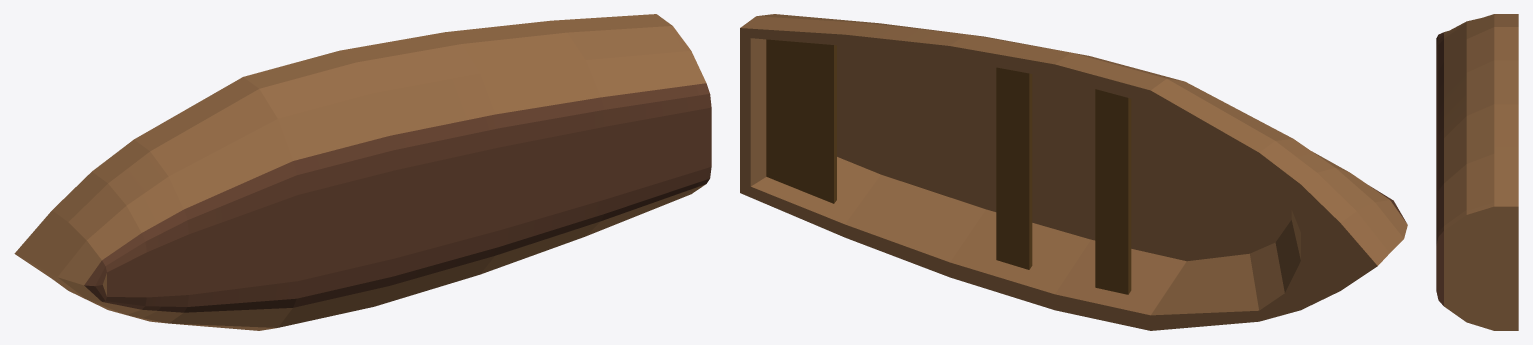
File: BoatUpDownAnime.fbx
3 renders of one model, left to right at view 1: azimuth 30°, elevation 25°; view 2: azimuth 150°, elevation 25°; view 3: azimuth 270°, elevation 25°, orthographic. The views are drawn at different scales.
Parts seen in each view (by area): view 1: Wood_BoatV1.008; view 2: Wood_BoatV1.008; view 3: Wood_BoatV1.008.
Boxes of the visible parts, <box> form: Wood_BoatV1.008: <box>14,14,711,330</box>; Wood_BoatV1.008: <box>740,14,1407,330</box>; Wood_BoatV1.008: <box>1436,14,1518,330</box>.
Size of the model in its own units: 4.04 by 1.49 by 0.5992.
1 material, 1 textured.
